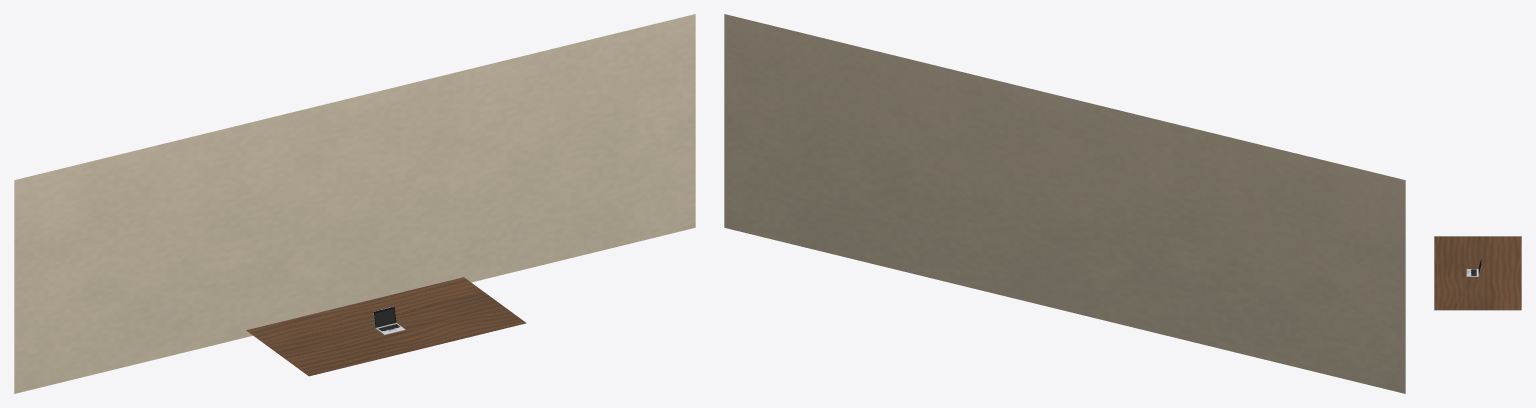
The picture shows the model from 3 angles, left to right: view 1: azimuth 30°, elevation 25°; view 2: azimuth 150°, elevation 25°; view 3: azimuth 270°, elevation 25°; orthographic projection. The views are drawn at different scales.
Visible parts, largest first — view 1: Wall, Table; view 2: Wall; view 3: Table.
Part boxes in pixels (x1,y1,x2,y2): Wall: [14, 14, 695, 393]; Table: [246, 277, 526, 376]; Wall: [724, 14, 1405, 393]; Table: [1434, 236, 1521, 310].
Bounding box in the file's own units: 10 × 3 × 1.6.
Materials: 8 (2 with a texture image).
